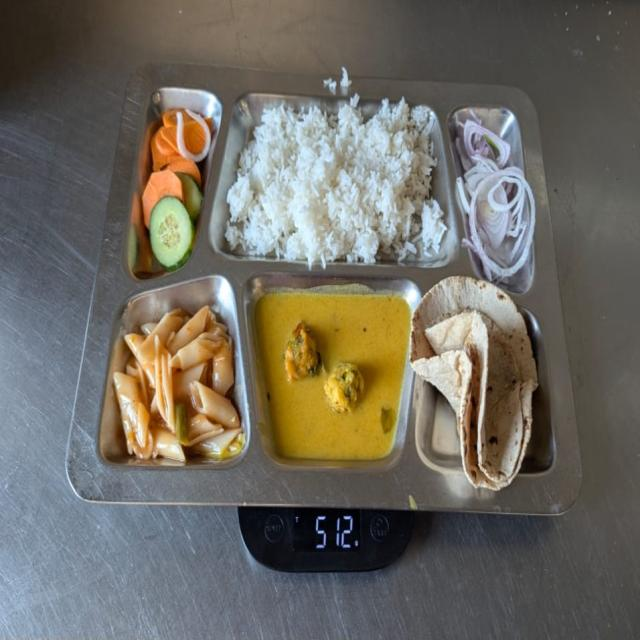Chapati: (410, 274, 540, 495)
Kadhi: (454, 102, 539, 270)
Kofta: (261, 290, 403, 456)
Pasta: (114, 304, 243, 463)
Salad: (139, 102, 213, 268)
White Rice: (225, 98, 447, 270)
